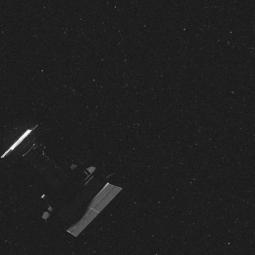soho: (0, 124, 132, 232)
